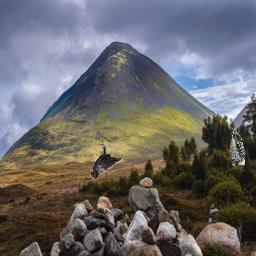Crow: (91, 140, 124, 180)
Woodpecker: (229, 128, 245, 168)
